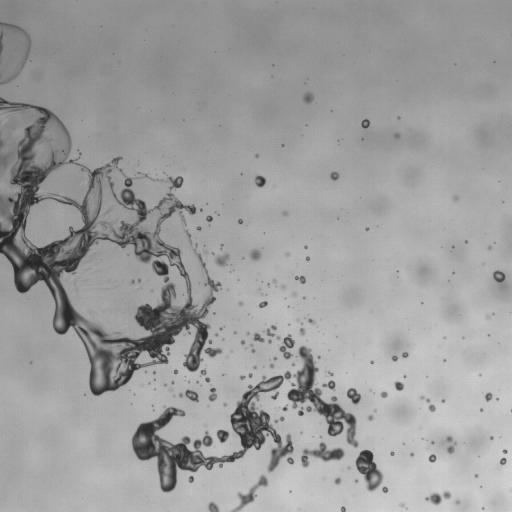droplet: (355, 450, 383, 491), (347, 388, 361, 404), (3, 118, 17, 132), (214, 253, 229, 266), (446, 436, 456, 453), (493, 270, 505, 282), (322, 380, 335, 390), (208, 387, 217, 401), (249, 249, 260, 260), (255, 175, 265, 187), (303, 93, 313, 103), (253, 333, 264, 342), (208, 502, 219, 511), (330, 171, 339, 180), (394, 381, 403, 390), (361, 119, 369, 128), (295, 276, 305, 283), (428, 454, 436, 462), (258, 301, 267, 308), (485, 392, 492, 401), (299, 326, 305, 335), (499, 458, 506, 465), (334, 477, 341, 484), (206, 215, 212, 222), (308, 318, 315, 324), (200, 369, 206, 376), (380, 391, 387, 397), (391, 355, 397, 361), (188, 475, 193, 482), (402, 352, 408, 357), (327, 371, 333, 376), (205, 376, 210, 382), (382, 486, 387, 492), (238, 301, 243, 306), (240, 340, 245, 345), (269, 363, 274, 368), (239, 375, 244, 380), (368, 415, 373, 420), (453, 196, 458, 200), (173, 369, 178, 373), (248, 373, 253, 377), (502, 449, 507, 453), (341, 506, 345, 511), (395, 133, 399, 137), (283, 211, 287, 215), (238, 219, 242, 223), (197, 226, 201, 230), (272, 279, 276, 283), (281, 285, 285, 289), (390, 451, 394, 455), (455, 500, 459, 504), (203, 250, 207, 253), (306, 257, 309, 261), (292, 292, 296, 295), (486, 315, 489, 319), (251, 348, 254, 352), (441, 399, 445, 402), (400, 503, 404, 506), (255, 154, 258, 157), (365, 227, 368, 230), (220, 245, 223, 248), (488, 246, 491, 249), (286, 253, 289, 256), (253, 366, 256, 369), (169, 388, 172, 391), (223, 403, 226, 406), (410, 453, 413, 456), (304, 246, 307, 248), (215, 333, 217, 336), (273, 357, 276, 359), (370, 361, 373, 363), (292, 363, 294, 366), (403, 375, 406, 377), (171, 381, 174, 383), (430, 441, 433, 443), (475, 474, 477, 477), (355, 479, 357, 482), (300, 322, 302, 324), (246, 332, 248, 334), (443, 359, 445, 361), (496, 398, 498, 400)
ligament: (0, 97, 221, 392), (131, 345, 356, 492), (0, 22, 30, 84), (231, 475, 268, 511), (301, 442, 344, 467), (264, 325, 294, 359), (425, 490, 451, 505), (179, 389, 198, 402), (420, 396, 435, 412), (277, 405, 287, 411), (274, 416, 284, 422), (130, 279, 141, 284)
